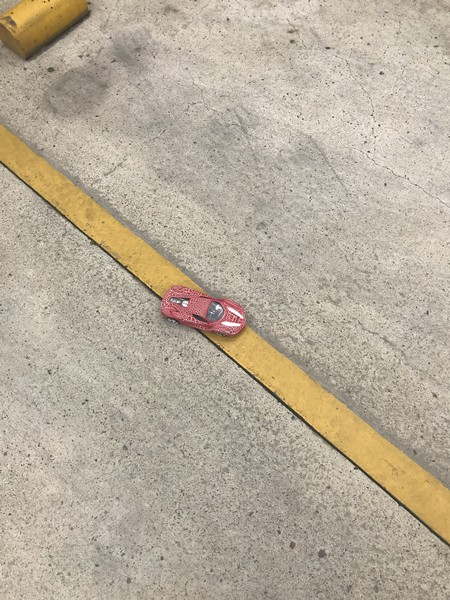RC: (159, 283, 249, 338)
